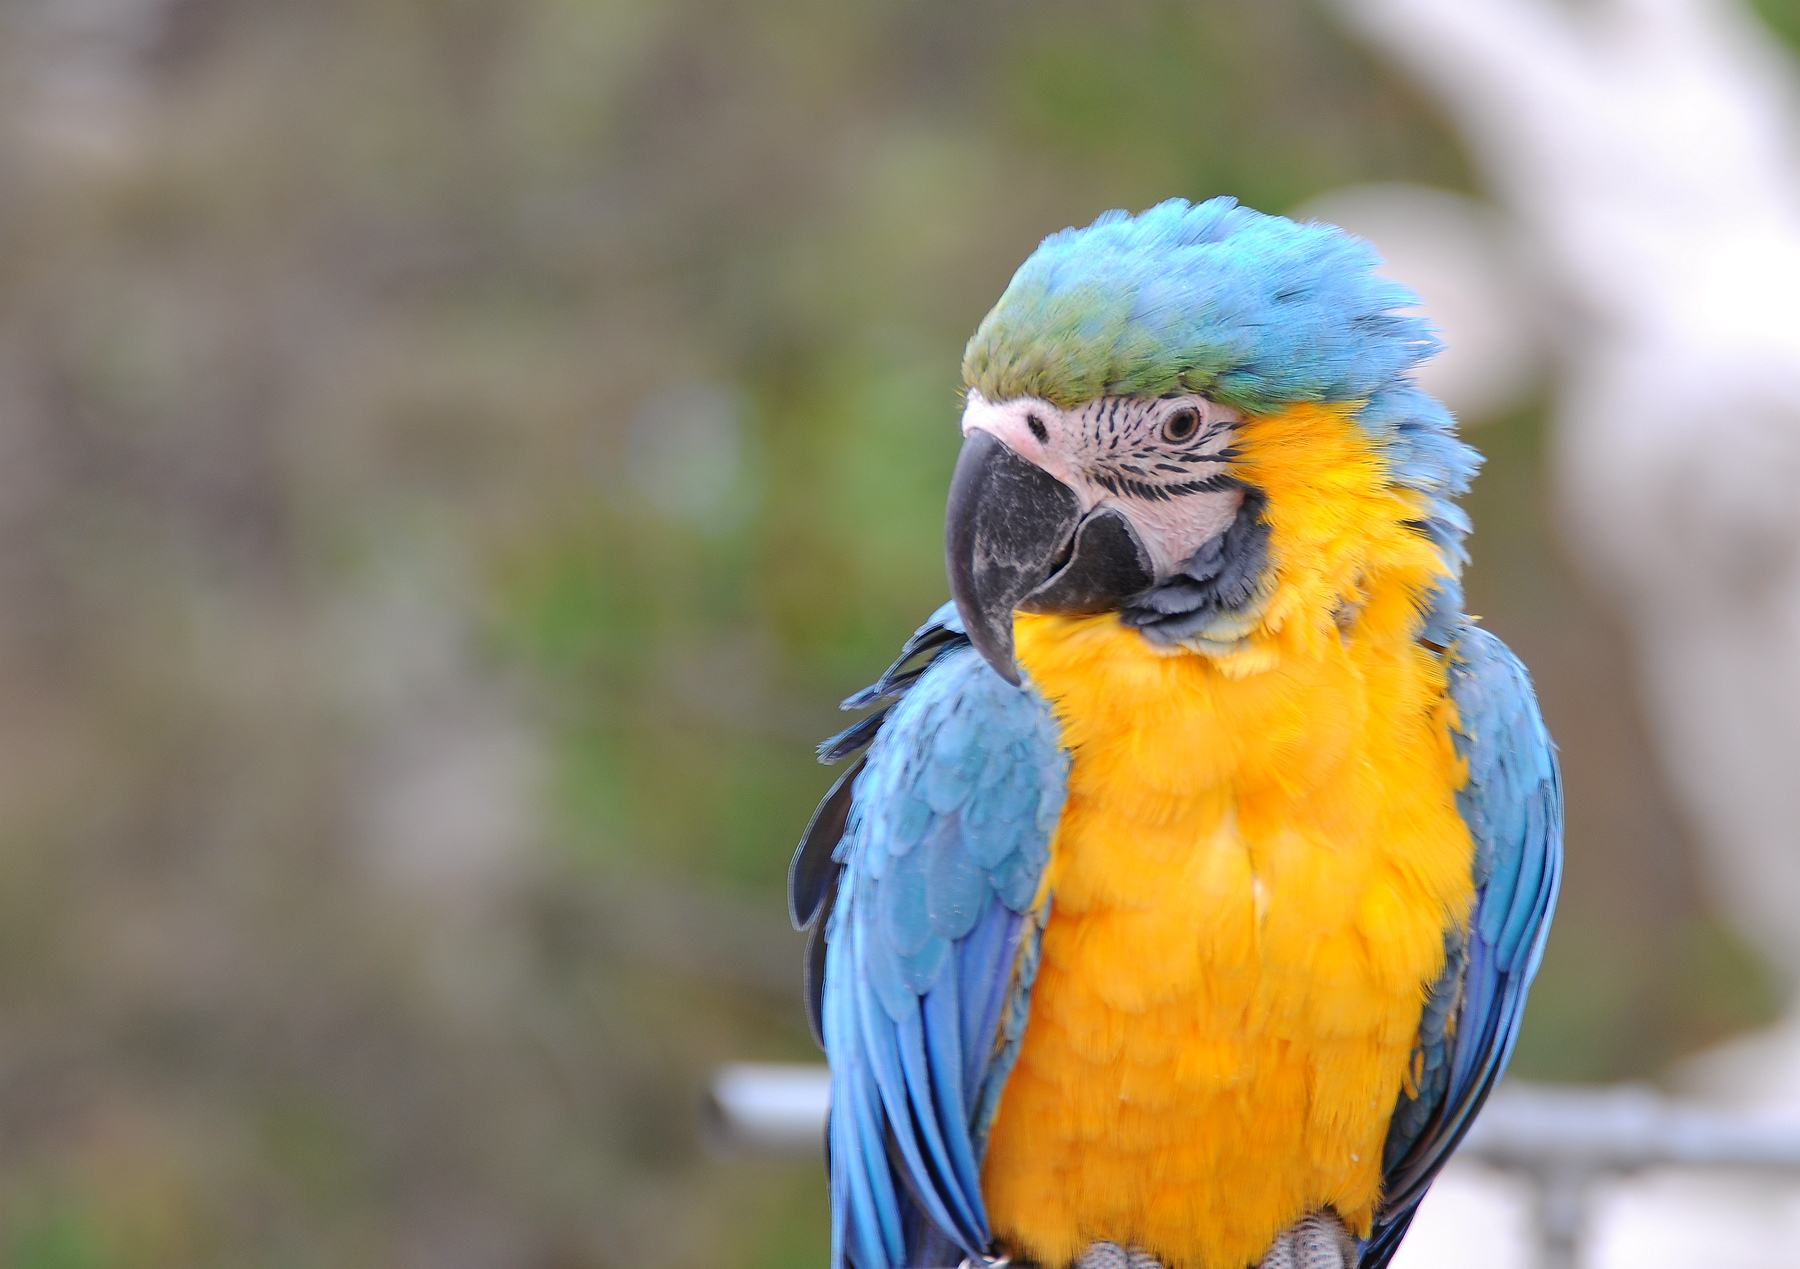bird: (783, 199, 1571, 1269)
